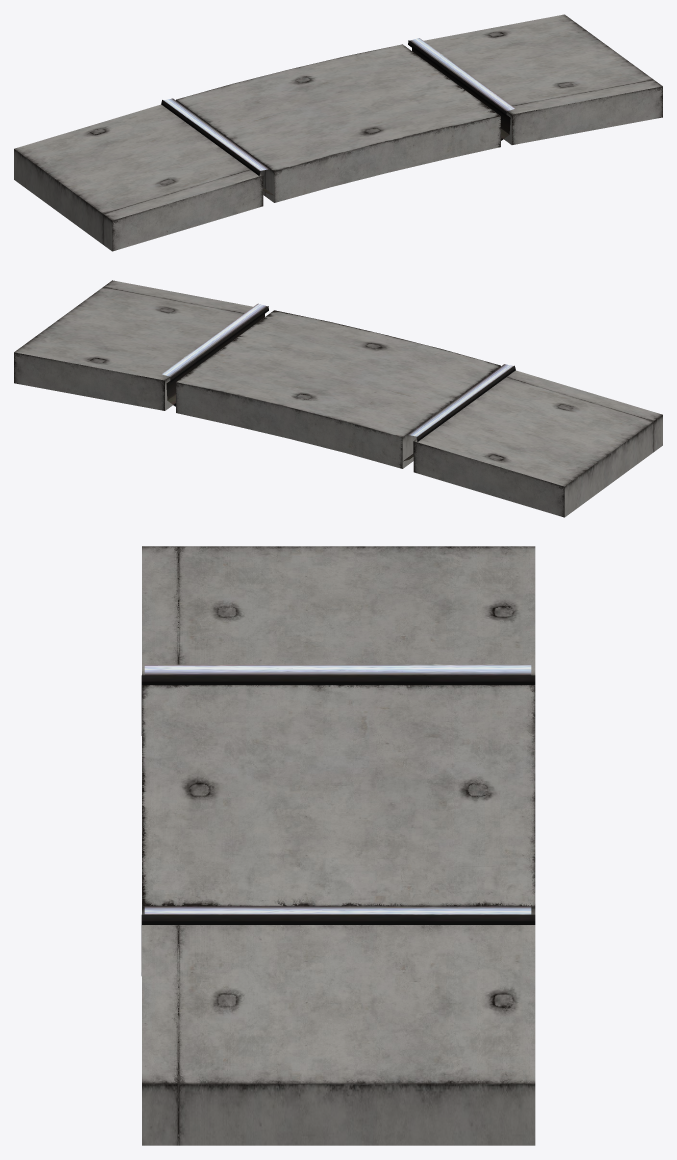
Rendered from rail_plit.obj.
3 renders of one model, top to bottom at view 1: azimuth 30°, elevation 25°; view 2: azimuth 150°, elevation 25°; view 3: azimuth 270°, elevation 25°, orthographic. The views are drawn at different scales.
Parts seen in each view (by area): view 1: Object_1, rail; view 2: Object_1, rail; view 3: Object_1, rail.
Part boxes in pixels (<box>): Object_1: <box>14,14,662,251</box>; rail: <box>161,38,515,195</box>; Object_1: <box>14,280,662,517</box>; rail: <box>161,303,515,461</box>; Object_1: <box>142,546,535,1145</box>; rail: <box>141,664,535,975</box>.
Size of the model in its own units: 3.55 by 0.2715 by 1.1.
Materials: 3 (3 with a texture image).
